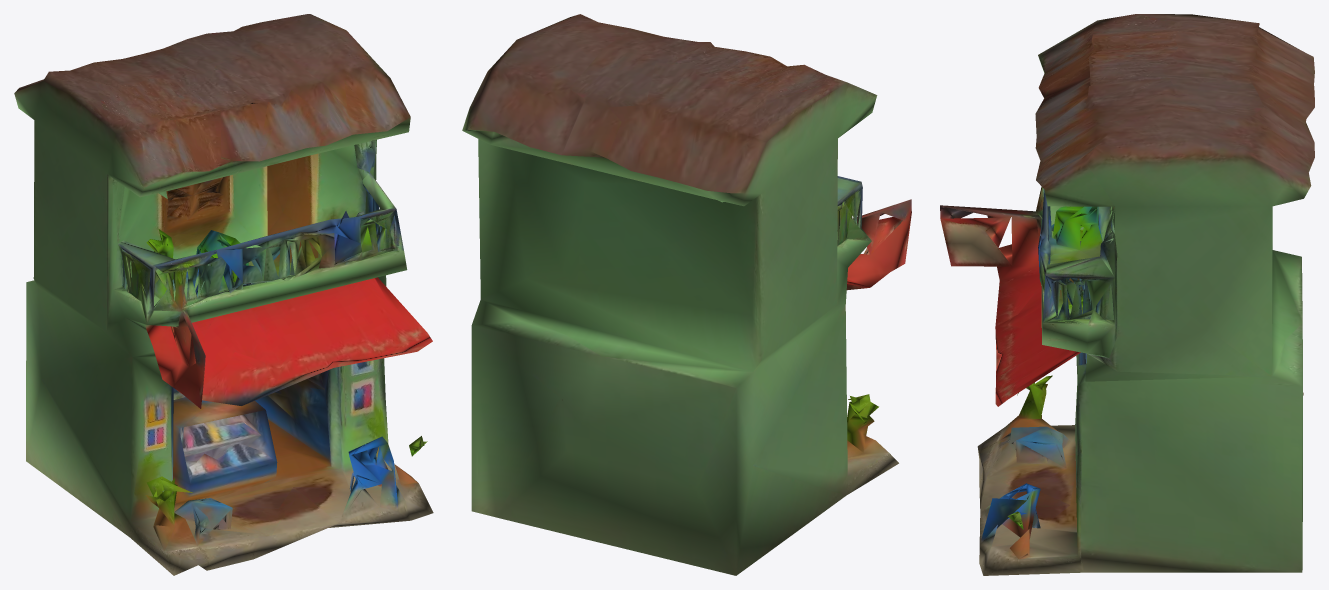
Rendered from building-2.glb.
3 views of the same model, side by side, from view 1: azimuth 30°, elevation 25°; view 2: azimuth 150°, elevation 25°; view 3: azimuth 270°, elevation 25° (orthographic). The views are drawn at different scales.
Visible parts, largest first — view 1: tripo_node_ee156241-aa38-4e31-92f8-3aa3a7f1e555; view 2: tripo_node_ee156241-aa38-4e31-92f8-3aa3a7f1e555; view 3: tripo_node_ee156241-aa38-4e31-92f8-3aa3a7f1e555.
Boxes of the visible parts, <box> form: tripo_node_ee156241-aa38-4e31-92f8-3aa3a7f1e555: <box>14,14,433,575</box>; tripo_node_ee156241-aa38-4e31-92f8-3aa3a7f1e555: <box>462,14,911,575</box>; tripo_node_ee156241-aa38-4e31-92f8-3aa3a7f1e555: <box>940,14,1314,575</box>.
Size of the model in its own units: 0.6997 by 1 by 0.7853.
Materials: 1 (1 with a texture image).
